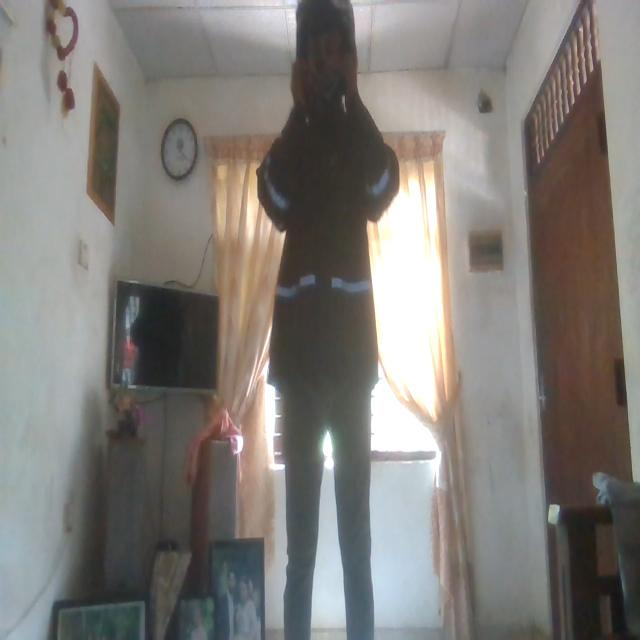Helmet_Wearer: (291, 0, 363, 113)
Jacket_Wearer: (257, 101, 403, 415)
Person: (256, 0, 402, 640)
